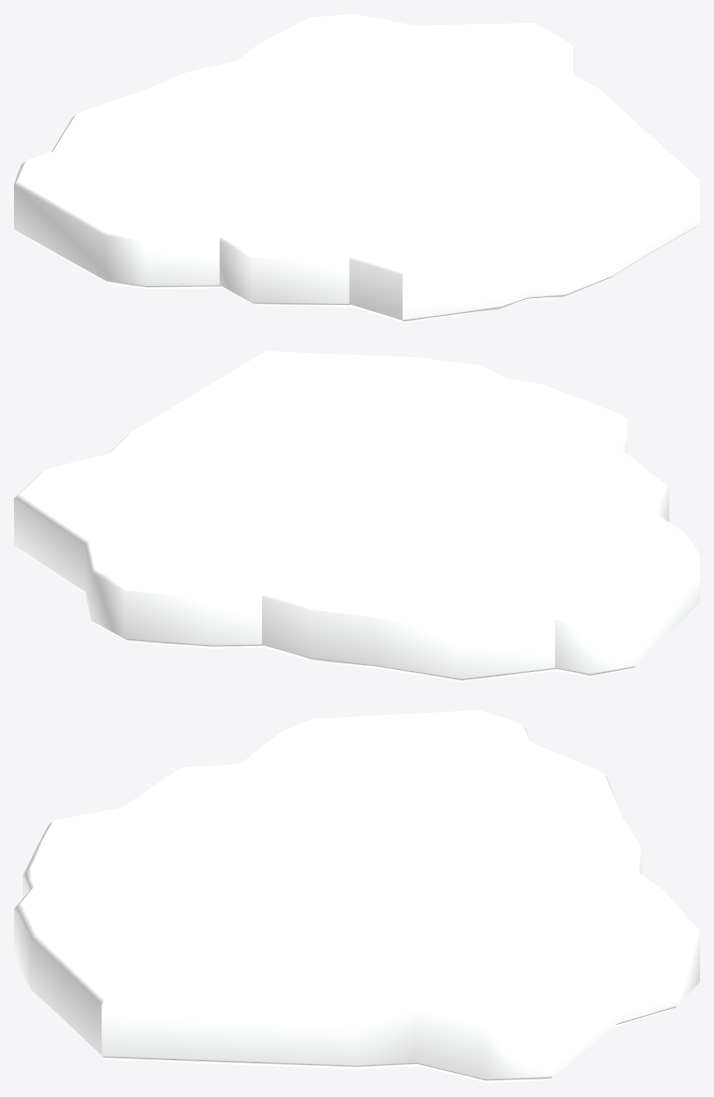
File: ice_floe_medium_004.glb
3 views of the same model, one above another, from view 1: azimuth 30°, elevation 25°; view 2: azimuth 150°, elevation 25°; view 3: azimuth 270°, elevation 25° (orthographic). The views are drawn at different scales.
Visible parts, largest first — view 1: ice_floe_medium_004; view 2: ice_floe_medium_004; view 3: ice_floe_medium_004.
Part boxes in pixels (x1=…): ice_floe_medium_004: x1=14, y1=14, x2=699, y2=322; ice_floe_medium_004: x1=14, y1=351, x2=699, y2=681; ice_floe_medium_004: x1=14, y1=710, x2=699, y2=1082.
Size of the model in its own units: 9.1 by 0.8944 by 8.4.
1 material, 1 textured.
